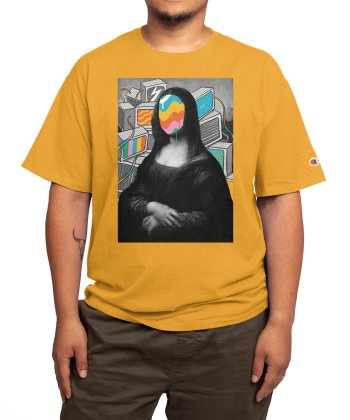design: (113, 73, 239, 248)
